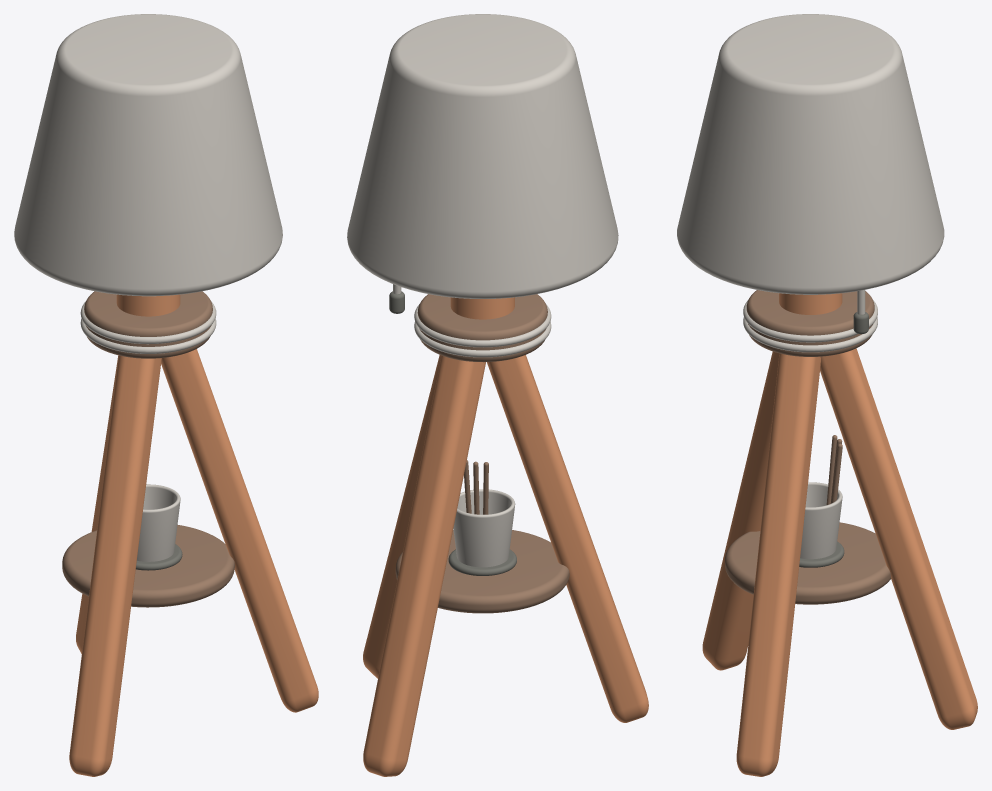
Rendered from floor-lamp.glb.
3 renders of one model, left to right at view 1: azimuth 30°, elevation 25°; view 2: azimuth 150°, elevation 25°; view 3: azimuth 270°, elevation 25°, orthographic.
Visible parts, largest first — view 1: Cylinder.009, Cube.133, Cube.134, Cylinder.006, Cylinder.007, Cylinder.011, Cylinder.016, Cylinder.008, Cube.135; view 2: Cylinder.009, Cube.135, Cube.133, Cylinder.006, Cylinder.007, Cylinder.011, Cube.134, Cylinder.016, Cylinder.008, Cylinder.010; view 3: Cylinder.009, Cube.134, Cube.135, Cube.133, Cylinder.006, Cylinder.007, Cylinder.011, Cylinder.016, Cylinder.008.
Part boxes in pixels (x1,y1,x2,y2): Cylinder.009: (14,14,282,296); Cube.133: (69,355,161,776); Cube.134: (161,349,318,712); Cylinder.006: (62,525,234,607); Cylinder.007: (84,291,212,358); Cylinder.011: (137,484,180,561); Cylinder.016: (80,301,216,353); Cylinder.008: (116,294,180,316); Cube.135: (76,355,118,653); Cylinder.009: (347,14,618,298); Cube.135: (363,355,485,776); Cube.133: (487,355,648,722); Cylinder.006: (395,530,569,613); Cylinder.007: (417,294,547,362); Cylinder.011: (453,489,515,567); Cube.134: (363,355,441,678); Cylinder.016: (414,304,551,357); Cylinder.008: (450,297,514,319); Cylinder.010: (448,549,516,575); Cylinder.009: (677,14,944,294); Cube.134: (736,353,820,776); Cube.135: (820,348,977,729); Cube.133: (702,351,779,670); Cylinder.006: (725,522,891,604); Cylinder.007: (746,290,874,356); Cylinder.011: (800,482,842,559); Cylinder.016: (743,300,877,352); Cylinder.008: (779,293,842,314).
Bounding box in the file's own units: 1.24 × 3.02 × 1.24.
